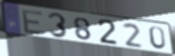0: (147, 26, 167, 51)
2: (97, 18, 120, 47), (121, 23, 144, 49)
3: (47, 12, 69, 40)
8: (73, 17, 93, 41)
E: (21, 9, 47, 36)
